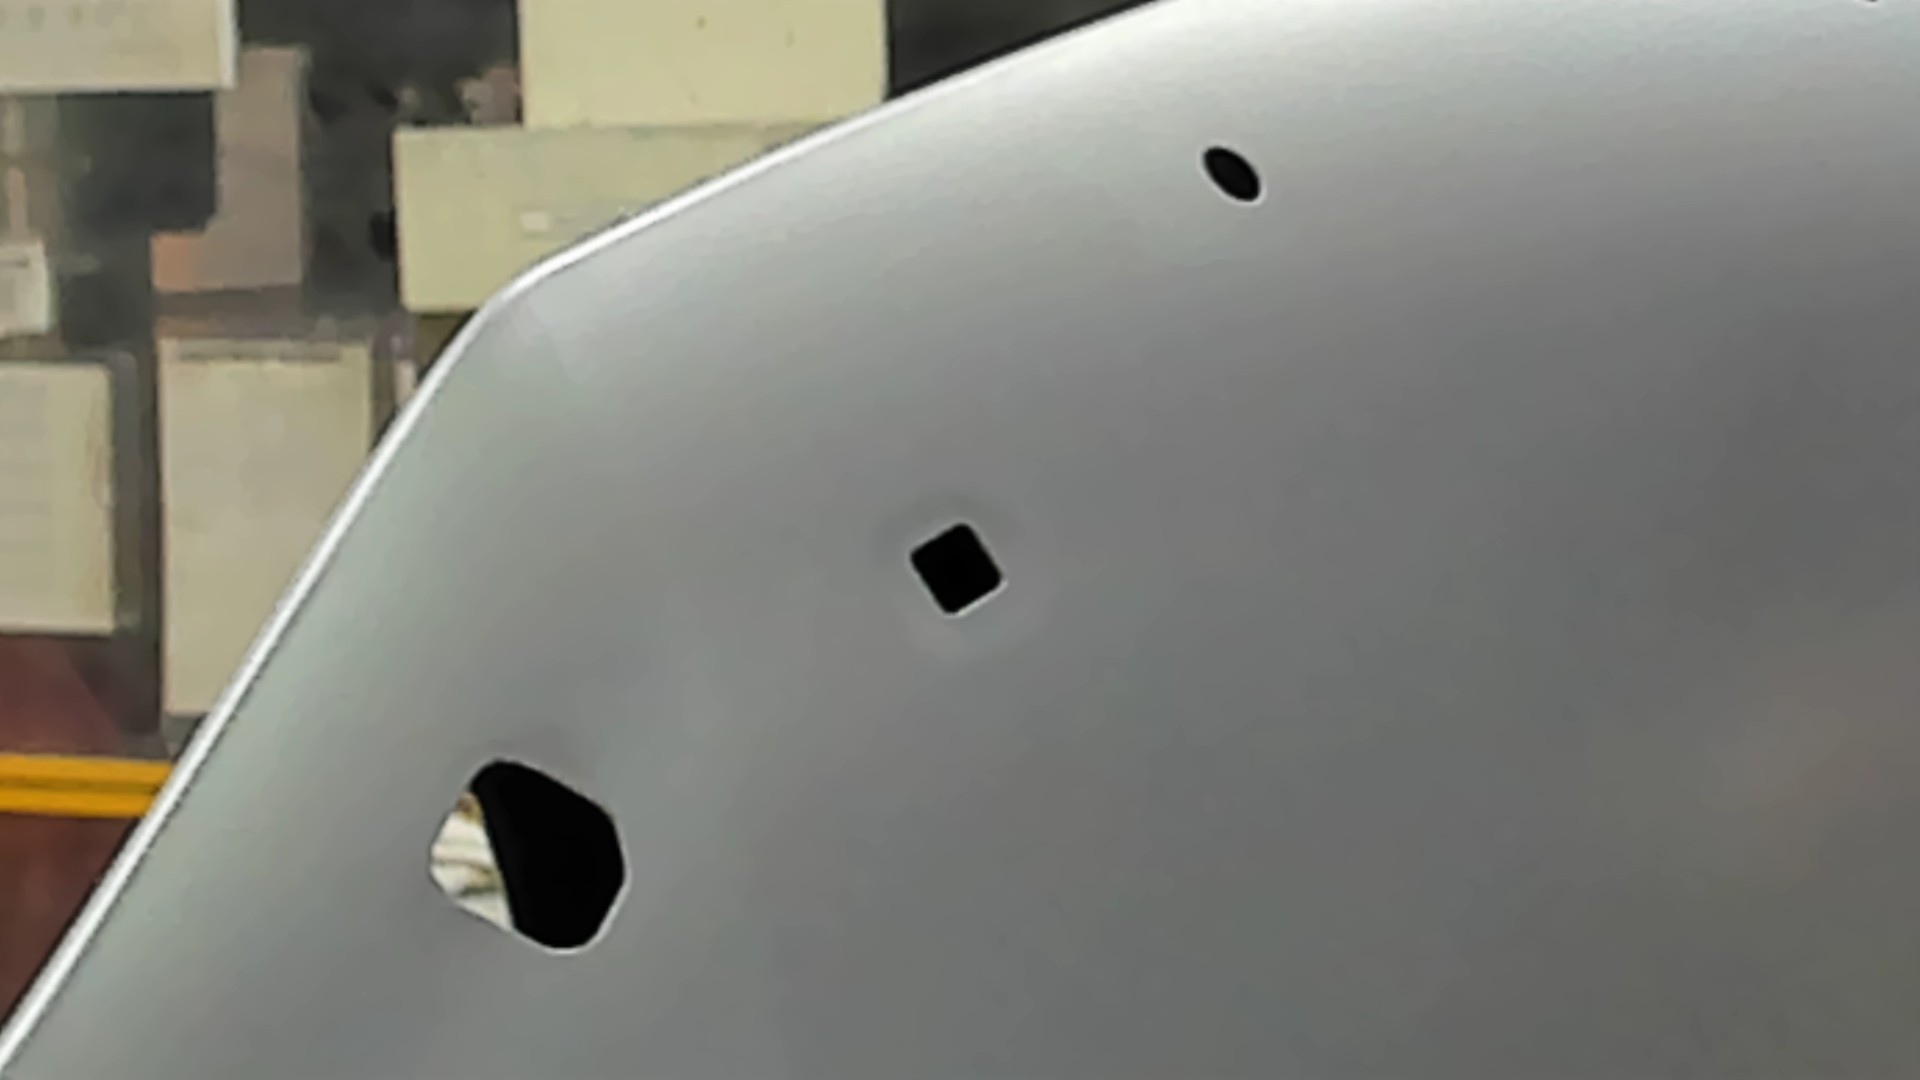chico: (1196, 142, 1265, 210)
grande: (421, 754, 633, 961)
mediano: (899, 516, 1013, 626)
